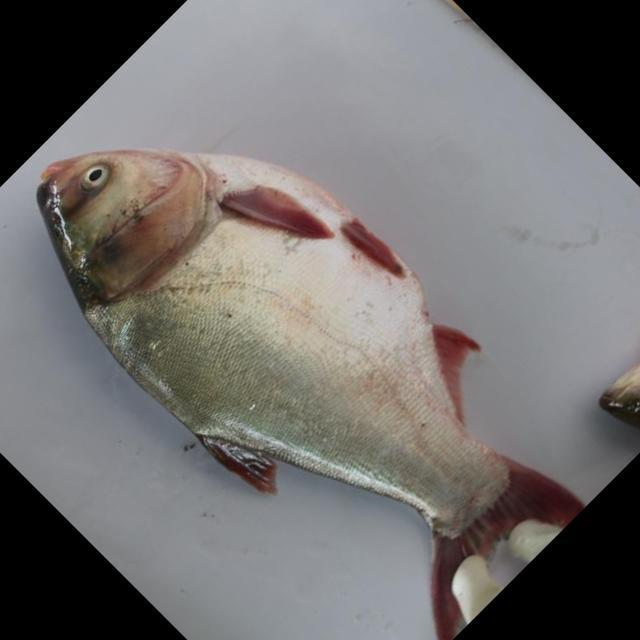SilverCarp: (40, 151, 586, 617)
